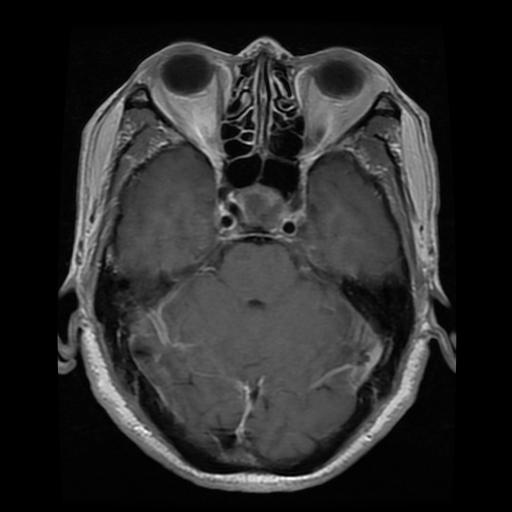Pituirity_tumour: (233, 185, 288, 228)
